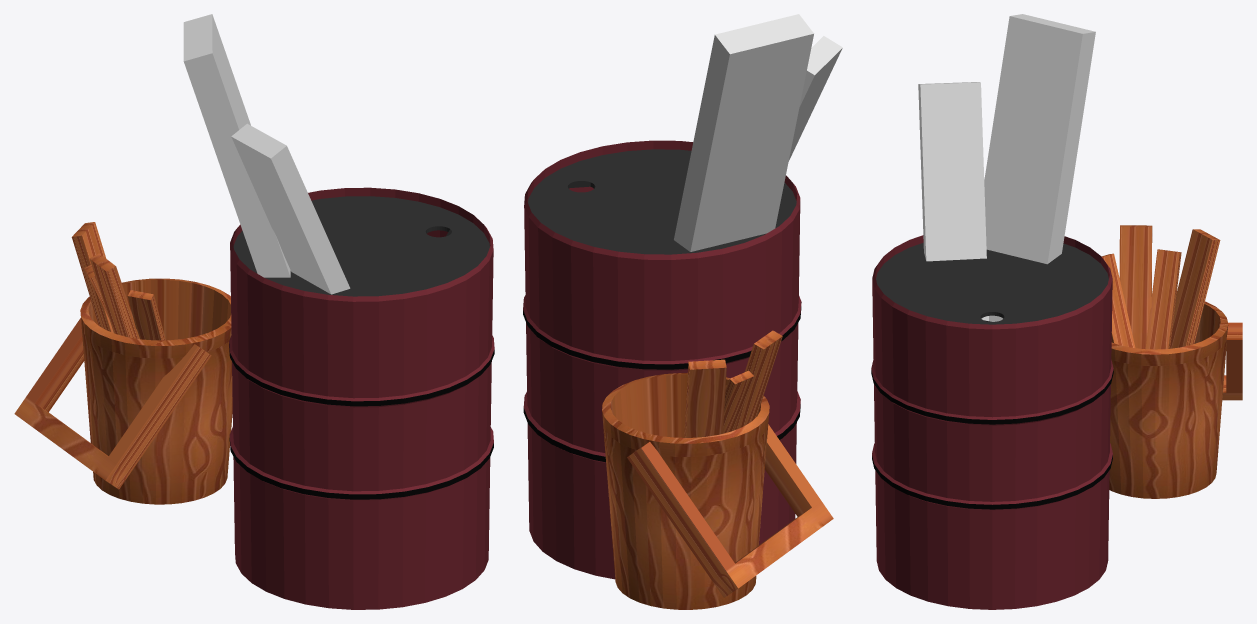
File: Garbage bin.fbx
The picture shows the model from 3 angles, left to right: view 1: azimuth 30°, elevation 25°; view 2: azimuth 150°, elevation 25°; view 3: azimuth 270°, elevation 25°; orthographic projection. The views are drawn at different scales.
Visible parts, largest first — view 1: Cylinder, Cylinder.001, Cylinder.002, Cube, Cube.006, Cube.001, Cube.004, Cube.003, Cube.005; view 2: Cylinder, Cylinder.001, Cube, Cylinder.002, Cube.006, Cube.003, Cube.001, Cube.004, Cube.002; view 3: Cylinder, Cube, Cylinder.001, Cylinder.002, Cube.001, Cube.004, Cube.003, Cube.002, Cube.006, Cube.005.
Boxes of the visible parts, x1=… form: Cylinder: x1=229, y1=187, x2=494, y2=609; Cylinder.001: x1=80, y1=278, x2=232, y2=504; Cylinder.002: x1=233, y1=196, x2=489, y2=296; Cube: x1=183, y1=14, x2=290, y2=277; Cube.006: x1=14, y1=318, x2=211, y2=489; Cube.001: x1=231, y1=123, x2=350, y2=294; Cube.004: x1=89, y1=253, x2=139, y2=338; Cube.003: x1=71, y1=222, x2=113, y2=332; Cube.005: x1=127, y1=290, x2=165, y2=340; Cylinder: x1=523, y1=140, x2=801, y2=579; Cylinder.001: x1=602, y1=373, x2=769, y2=609; Cube: x1=674, y1=14, x2=813, y2=251; Cylinder.002: x1=528, y1=149, x2=796, y2=254; Cube.006: x1=627, y1=385, x2=833, y2=597; Cube.003: x1=684, y1=359, x2=726, y2=437; Cube.001: x1=788, y1=36, x2=842, y2=161; Cube.004: x1=733, y1=330, x2=782, y2=430; Cube.002: x1=723, y1=370, x2=754, y2=433; Cylinder: x1=871, y1=235, x2=1113, y2=609; Cube: x1=984, y1=14, x2=1095, y2=321; Cylinder.001: x1=1109, y1=301, x2=1228, y2=498; Cylinder.002: x1=876, y1=242, x2=1108, y2=324; Cube.001: x1=918, y1=82, x2=988, y2=321; Cube.004: x1=1119, y1=225, x2=1152, y2=349; Cube.003: x1=1170, y1=229, x2=1220, y2=348; Cube.002: x1=1145, y1=249, x2=1181, y2=349; Cube.006: x1=1222, y1=322, x2=1242, y2=400; Cube.005: x1=1101, y1=253, x2=1135, y2=347.
Bounding box in the file's own units: 526 × 819 × 571.
